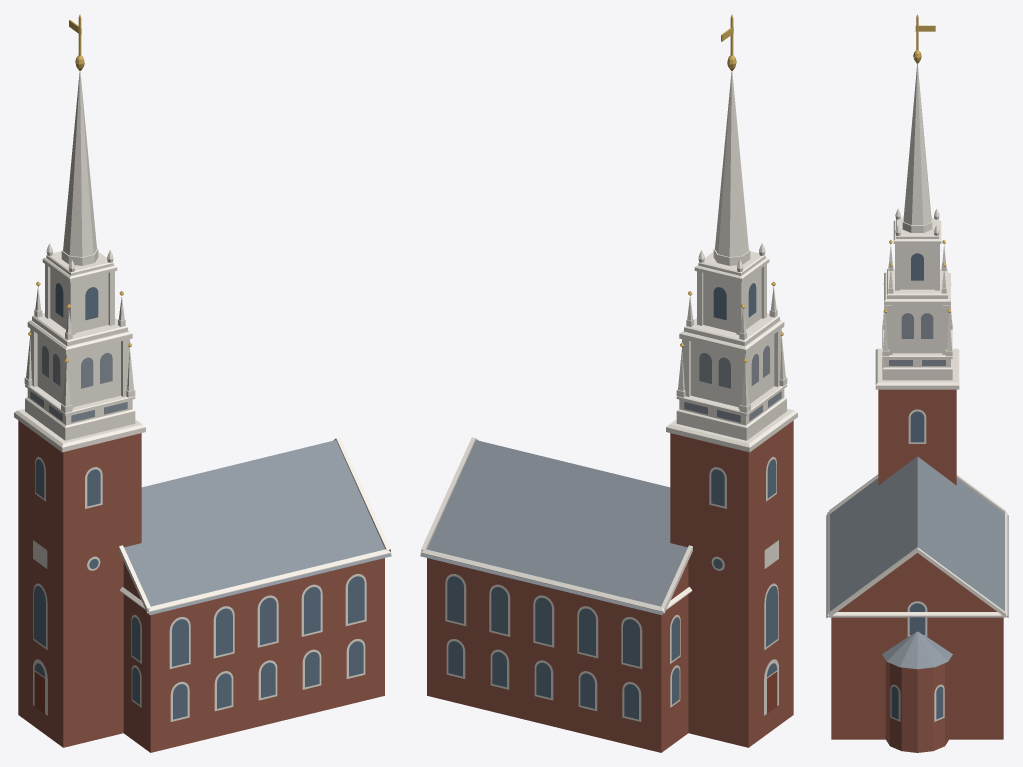
File: bos-old-north-church.glb
The picture shows the model from 3 angles, left to right: view 1: azimuth 30°, elevation 25°; view 2: azimuth 150°, elevation 25°; view 3: azimuth 270°, elevation 25°; orthographic projection. The views are drawn at different scales.
Parts seen in each view (by area): view 1: Old North Church; view 2: Old North Church; view 3: Old North Church.
Part boxes in pixels (box(x1,y1,x2,y2)): Old North Church: box(14, 14, 391, 752); Old North Church: box(420, 14, 797, 752); Old North Church: box(826, 14, 1008, 752).
Size of the model in its own units: 29.53 by 60 by 16.1.
